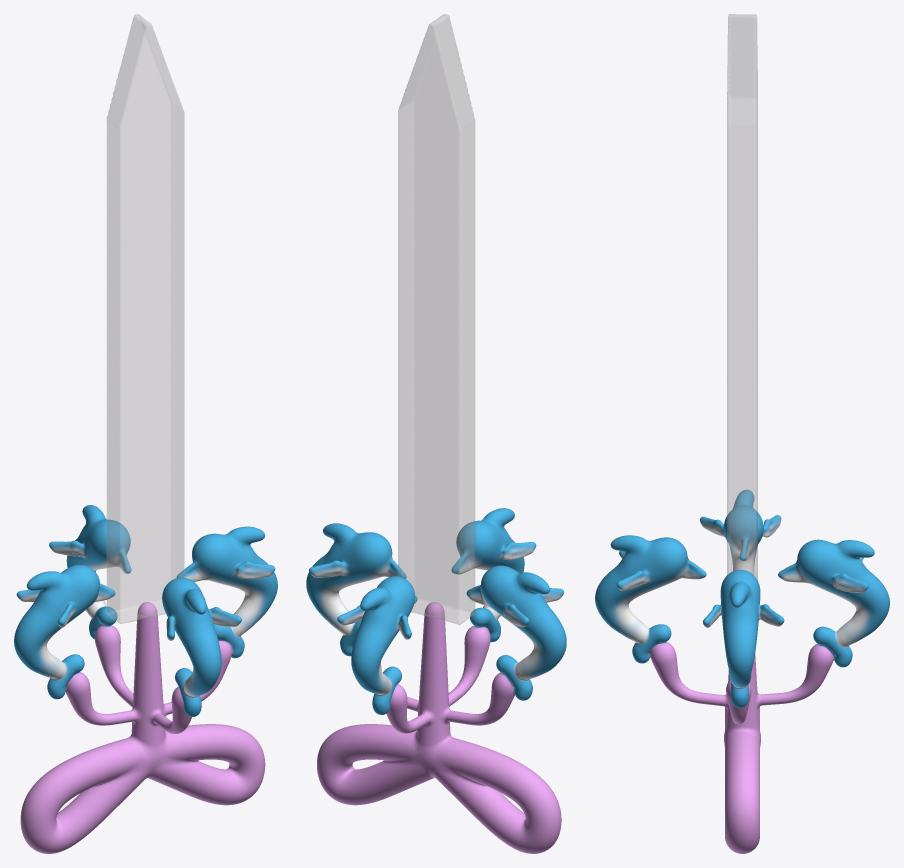
The picture shows the model from 3 angles, left to right: view 1: azimuth 30°, elevation 25°; view 2: azimuth 150°, elevation 25°; view 3: azimuth 270°, elevation 25°; orthographic projection.
Visible parts, largest first — view 1: The Sword, Area (1); view 2: The Sword, Area (1); view 3: The Sword, Area (1).
Part boxes in pixels (box(x1,y1,x2,y2)): The Sword: box(14, 505, 277, 853); Area (1): box(107, 14, 184, 623); The Sword: box(306, 508, 566, 853); Area (1): box(398, 14, 474, 624); The Sword: box(595, 489, 889, 853); Area (1): box(727, 14, 757, 580).
Bounding box in the file's own units: 404 × 1211 × 406.
Materials: 2 (2 with a texture image).
